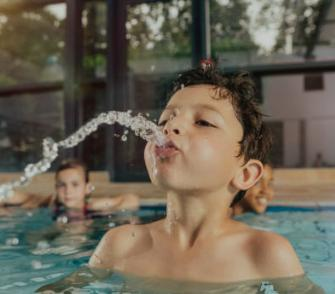Spitting: (88, 63, 290, 215)
